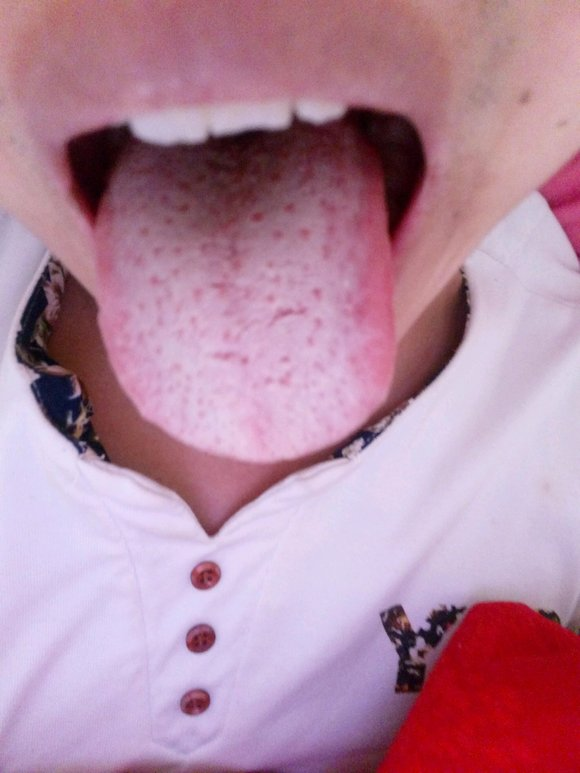baitaishe: (94, 121, 396, 464)
hongdianshe: (244, 208, 264, 225), (278, 199, 297, 215)
hongshe: (93, 121, 395, 464)
